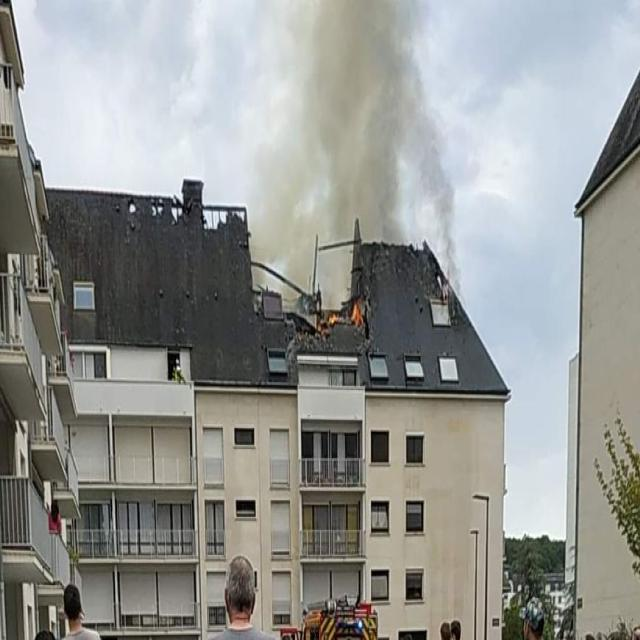Smoke: (312, 18, 406, 220)
